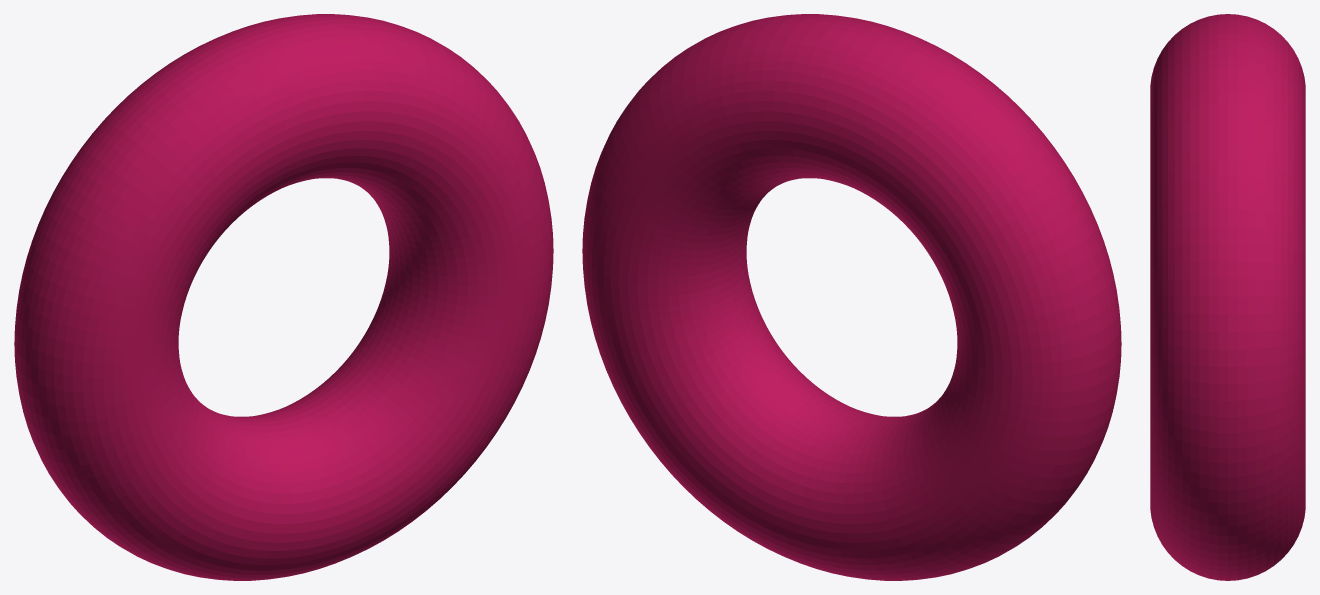
The picture shows the model from 3 angles, left to right: view 1: azimuth 30°, elevation 25°; view 2: azimuth 150°, elevation 25°; view 3: azimuth 270°, elevation 25°; orthographic projection. The views are drawn at different scales.
Visible parts, largest first — view 1: world; view 2: world; view 3: world.
Boxes of the visible parts, left/top/right/bottom form: world: left=14, top=14, right=553, bottom=580; world: left=582, top=14, right=1121, bottom=580; world: left=1150, top=14, right=1305, bottom=580.
Size of the model in its own units: 26.67 by 26.67 by 7.32.
